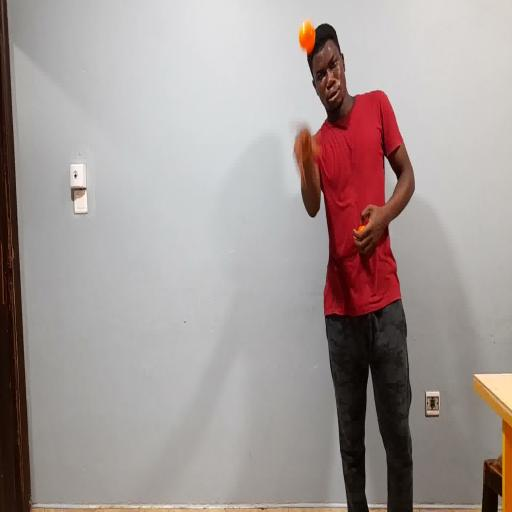plastic-ball: (297, 14, 317, 60)
